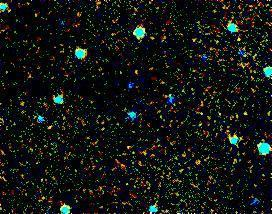star: (223, 25, 253, 55)
